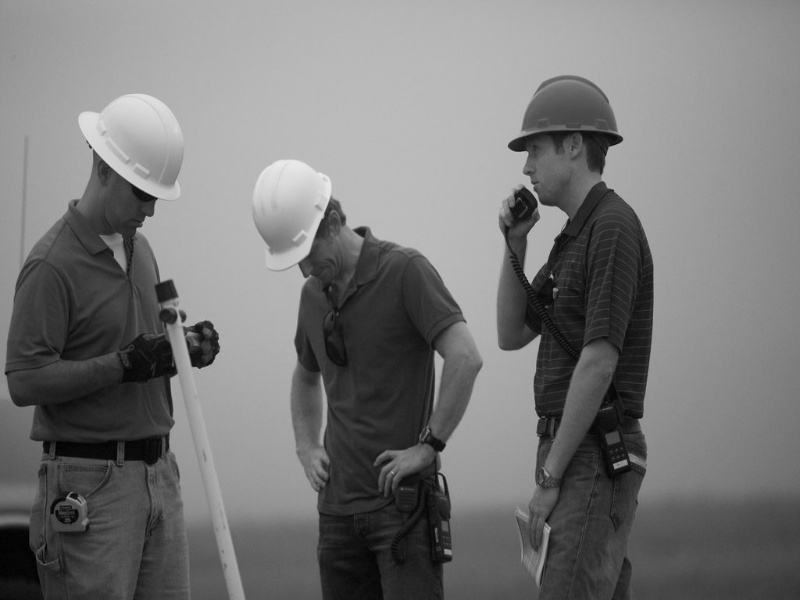Baret: (76, 82, 188, 201), (498, 72, 629, 137), (250, 159, 323, 264)
